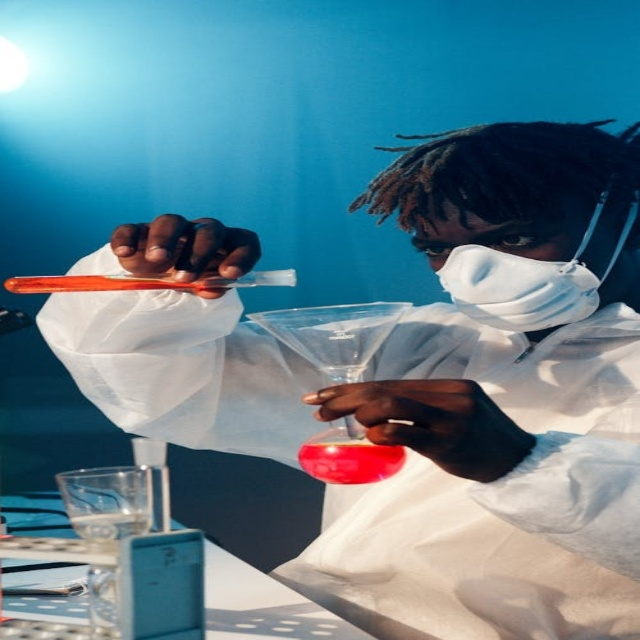Mascara: (438, 241, 607, 332)
Sin_gafas: (411, 215, 545, 259)
Sin_guantes: (304, 377, 526, 480), (108, 213, 265, 297)
